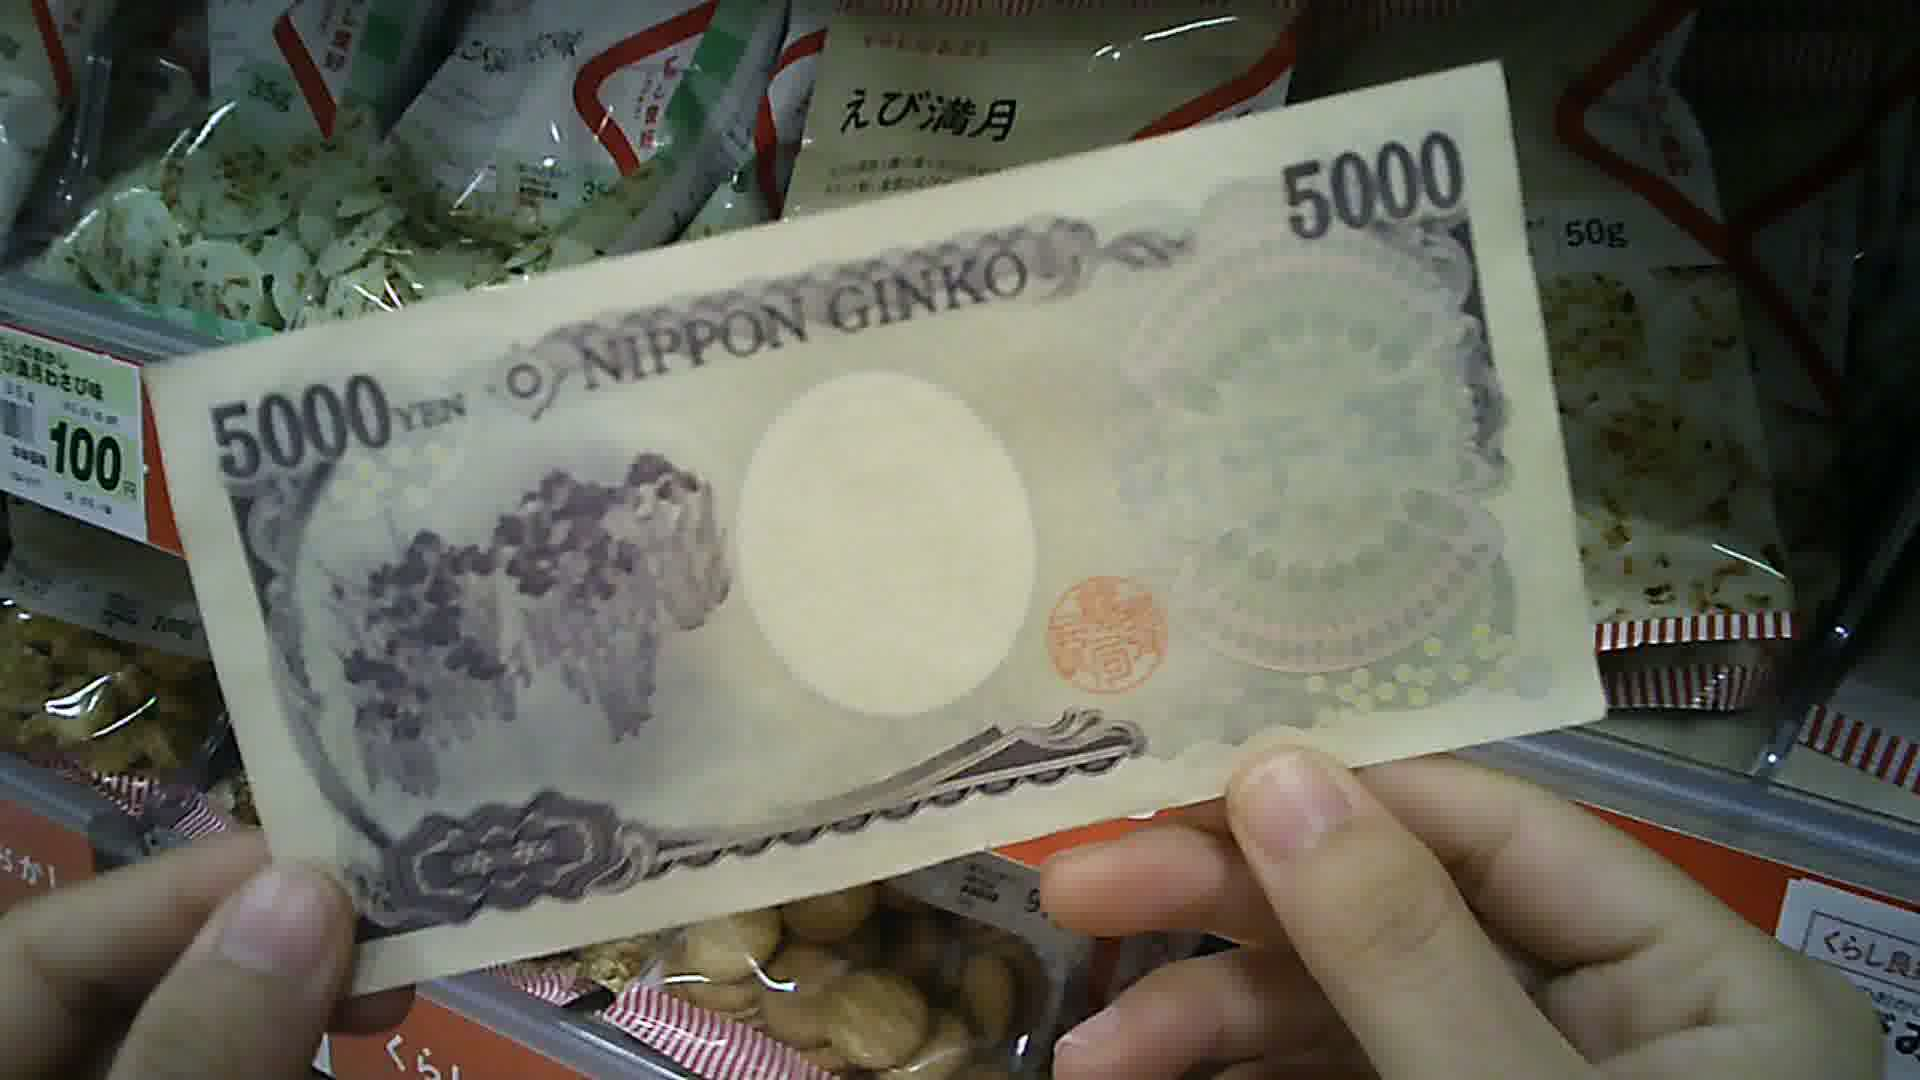5,000 Yen: (156, 76, 1600, 971)
